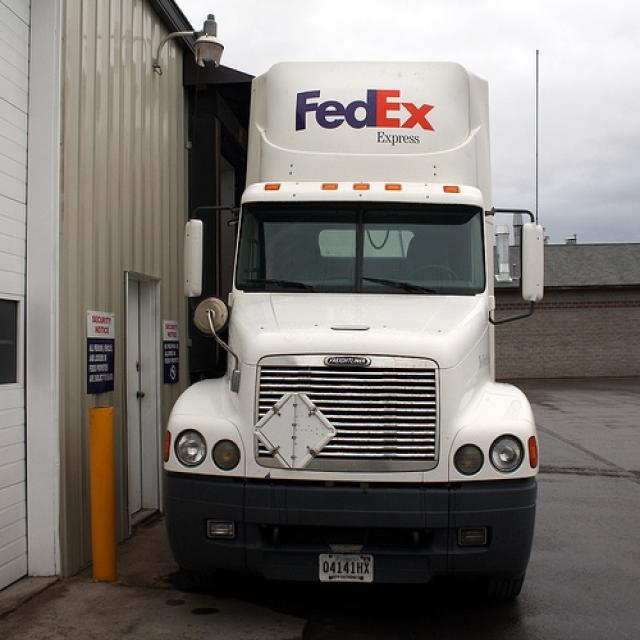fedex: (291, 87, 442, 137)
